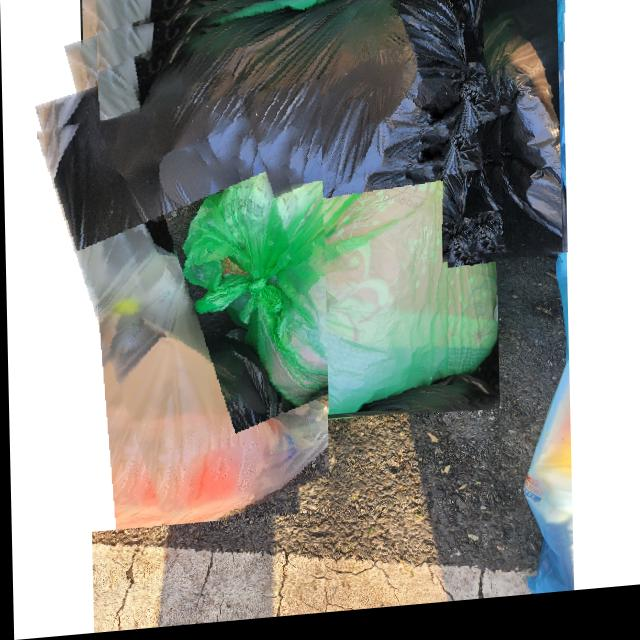general_trashbag: (180, 156, 494, 426)
other_trashbag: (36, 127, 326, 528), (101, 0, 499, 247), (450, 0, 561, 254)
